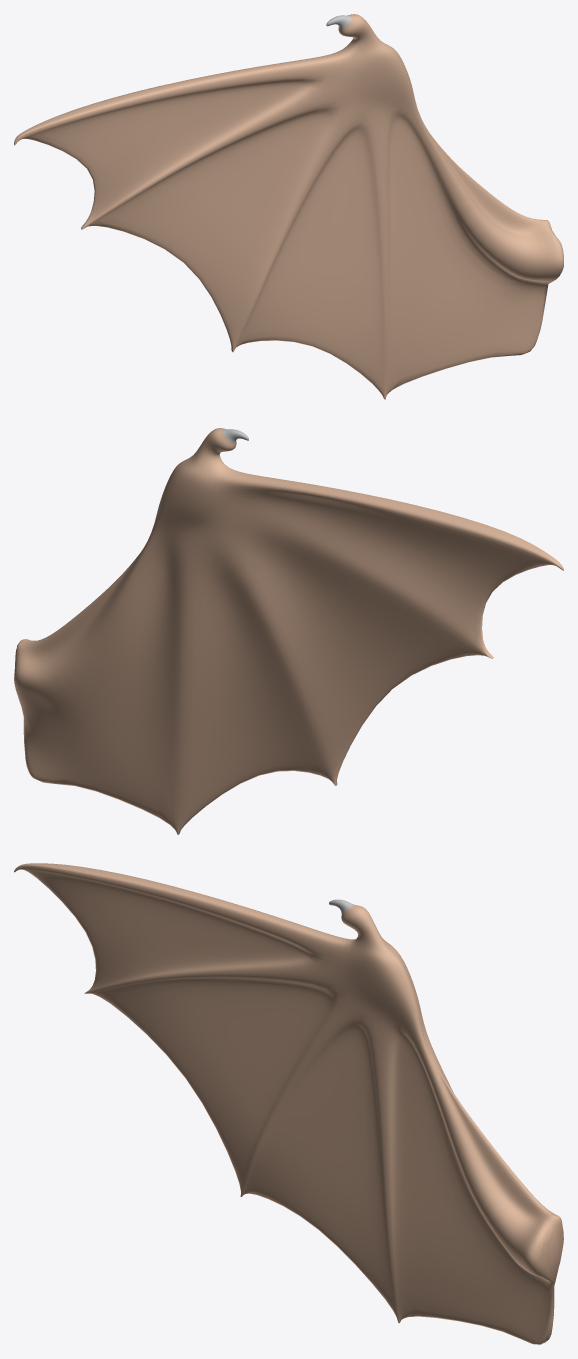
The model's file is bat_wing2.fbx.
3 views of the same model, one above another, from view 1: azimuth 30°, elevation 25°; view 2: azimuth 150°, elevation 25°; view 3: azimuth 330°, elevation 25° (orthographic). The views are drawn at different scales.
Parts seen in each view (by area): view 1: Body; view 2: Body; view 3: Body.
Boxes of the visible parts, <box> form: Body: <box>14,14,563,399</box>; Body: <box>14,428,563,834</box>; Body: <box>14,863,563,1344</box>.
Size of the model in its own units: 1727 by 1241 by 186.
